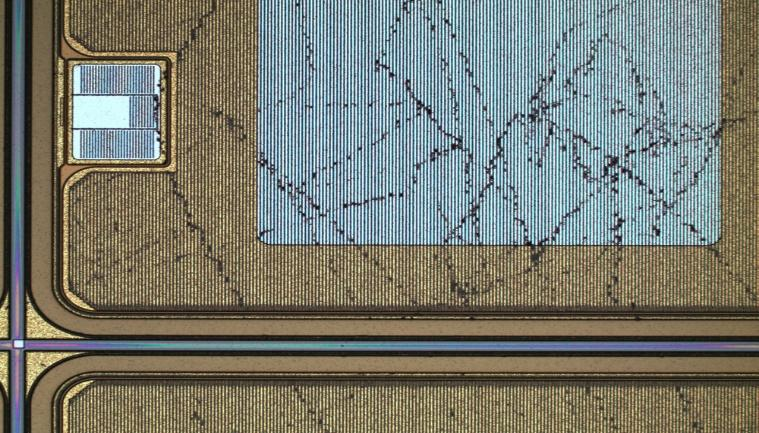SCRATCH: (66, 1, 749, 433)
